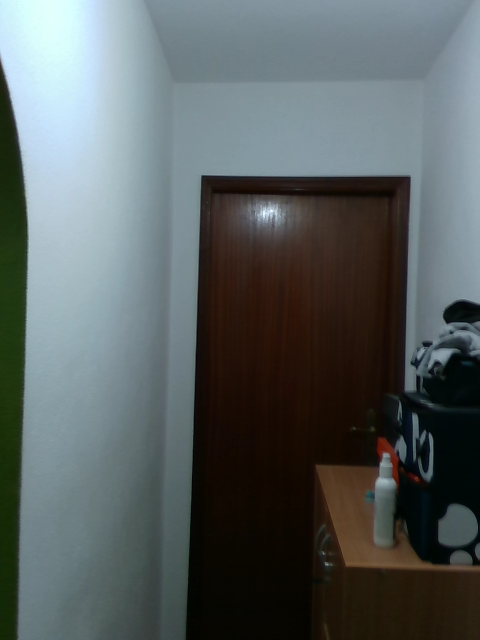closed: (184, 176, 409, 638)
